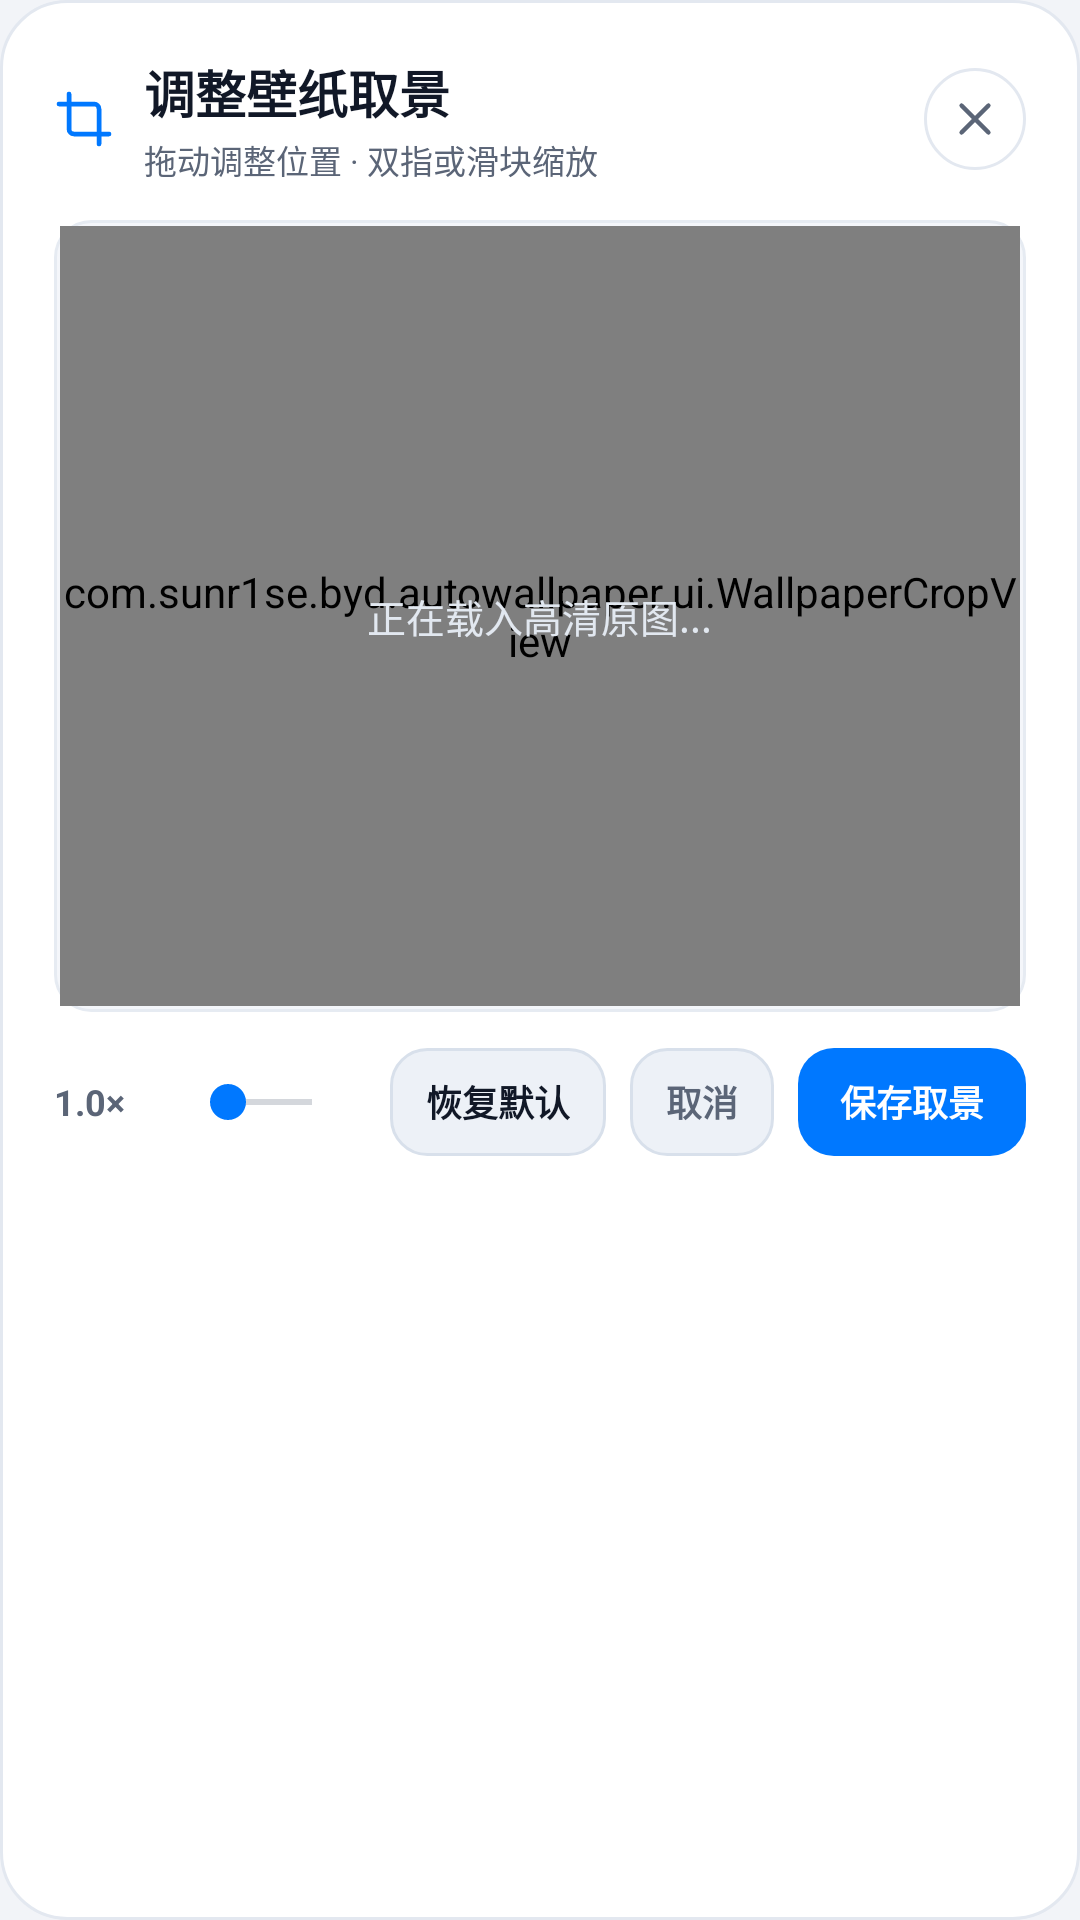

Where to tap for icons on this 1080px×1920px app screen, as [x,y]:
关闭: [975,119]
